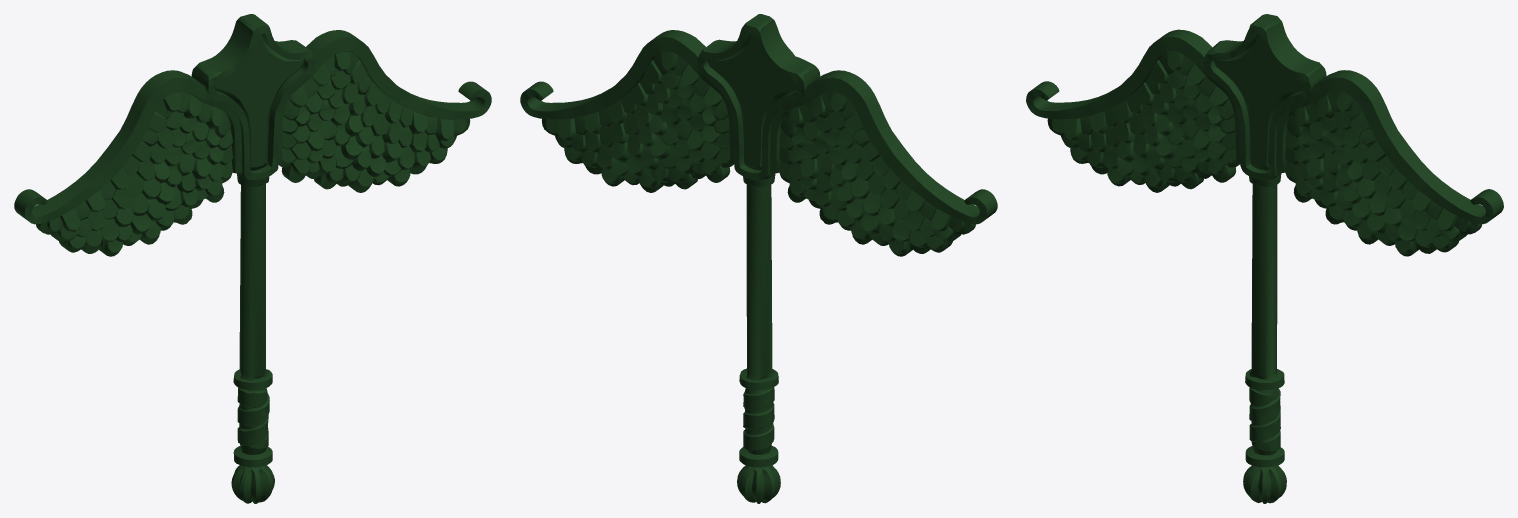
The model's file is SM_Rune_Scepter_1.obj.
3 views of the same model, side by side, from view 1: azimuth 30°, elevation 25°; view 2: azimuth 150°, elevation 25°; view 3: azimuth 330°, elevation 25° (orthographic).
Parts seen in each view (by area): view 1: SM_Rune_Scepter_1; view 2: SM_Rune_Scepter_1; view 3: SM_Rune_Scepter_1.
Part boxes in pixels (x1,y1,x2,y2): SM_Rune_Scepter_1: (14,14,491,503); SM_Rune_Scepter_1: (520,14,997,503); SM_Rune_Scepter_1: (1026,14,1503,503).
Size of the model in its own units: 771 by 759 by 61.39.
